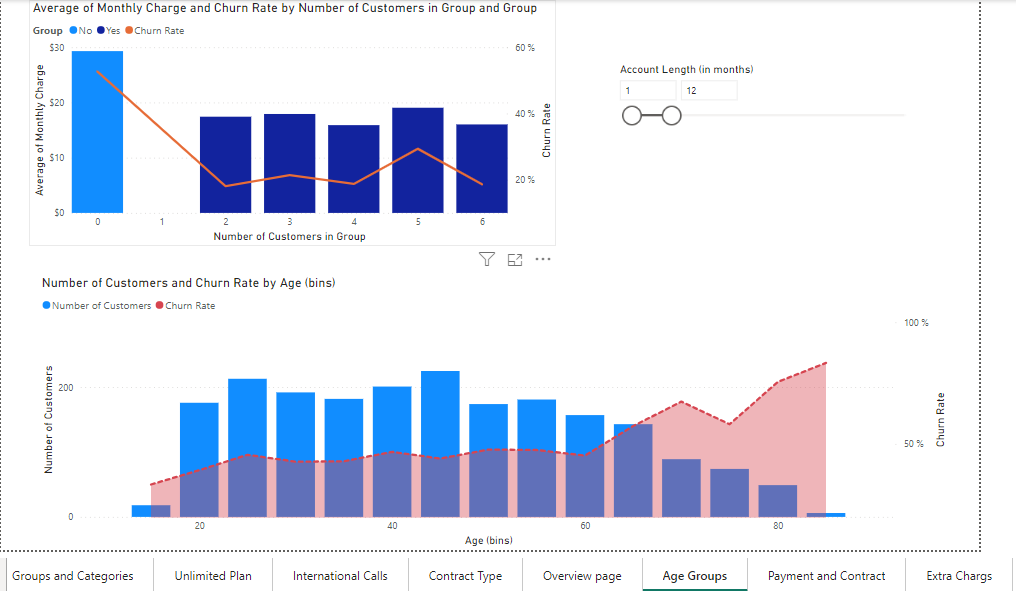

What the dashboard file says about the page in this screenshot:
{"tool":"powerbi","page":{"name":"Age Groups","canvas":[1280,720],"ordinal":6},"visuals":[{"type":"lineStackedColumnComboChart","fields":{"Category":["Databel - Data.Age (bins)"],"Y":["Databel - Data.Number of costumers"],"Y2":["Databel - Data.Churn Rate"]},"box":[572.6,360.6,707.4,359.2],"z":0},{"type":"lineStackedColumnComboChart","fields":{"Category":["Databel - Data.Number of Customers in Group"],"Y":["Avg(Databel - Data.Monthly Charge)"],"Series":["Databel - Data.Group"],"Y2":["Databel - Data.Churn Rate"]},"box":[37.2,0,689.5,322.1],"z":1000},{"type":"slicer","fields":{"Values":["Databel - Data.Account Length (in months)"]},"box":[796.9,77.1,408.8,154.2],"z":2000}]}

Visuals, with their boxes on the page's 1280x720 design canvas (x1, y1, x2, y2). These are canvas units, not pixel positions in the 1016x591 screenshot, which may show the page scaled, cropped or inside an application window:
lineStackedColumnComboChart - Databel - Data.Age (bins) x Databel - Data.Number of costumers: (573, 361, 1280, 720)
lineStackedColumnComboChart - Databel - Data.Number of Customers in Group x Avg(Databel - Data.Monthly Charge): (37, 0, 727, 322)
slicer - Databel - Data.Account Length (in months): (797, 77, 1206, 231)
